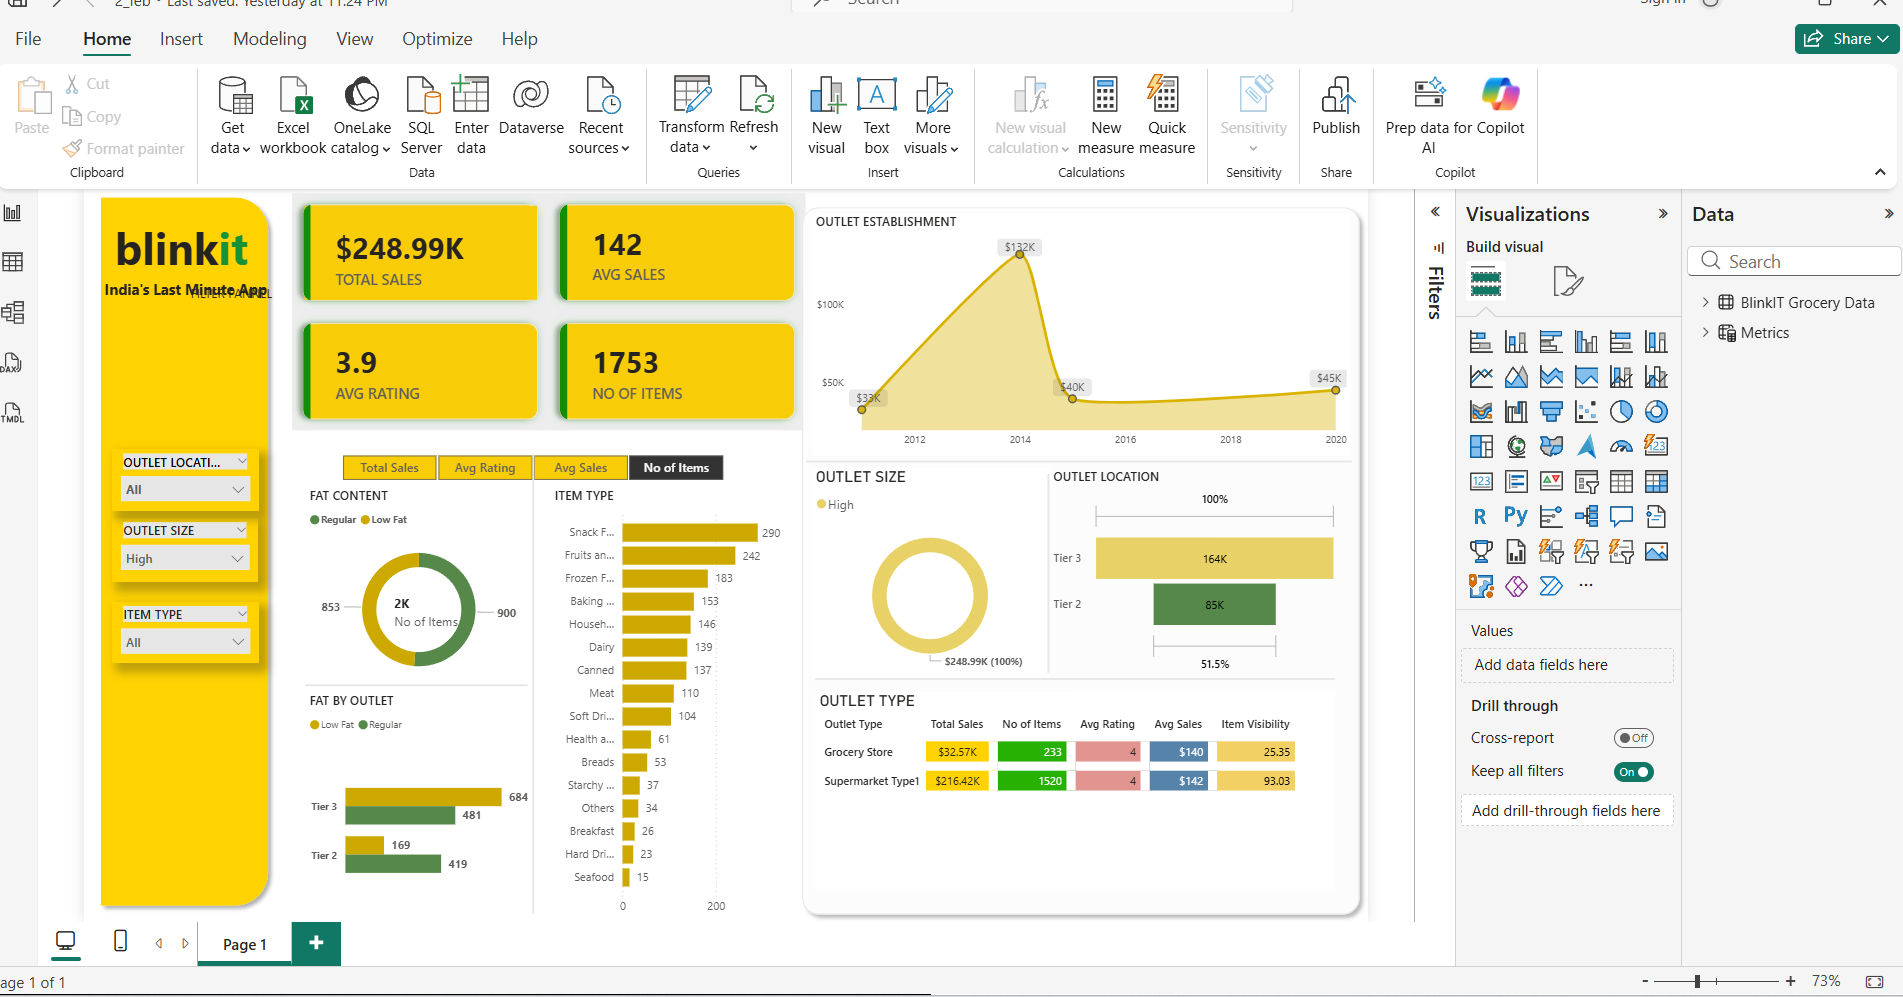

Layout of this report page (visuals, bound fields, positions):
{"tool":"powerbi","page":{"name":"Page 1","canvas":[1400,800],"ordinal":0},"visuals":[{"type":"shape","box":[9.5,0,200.4,790.7],"z":0},{"type":"textbox","box":[24,25.5,163.6,79.5],"z":1000},{"type":"textbox","box":[0,93.1,222.1,40.5],"z":2000},{"type":"cardVisual","fields":{"Data":["BlinkIT Grocery Data.Total Sales","BlinkIT Grocery Data.Avg Rating","BlinkIT Grocery Data.Avg Sales","BlinkIT Grocery Data.No of Items"]},"box":[222.2,0,571.2,269.9],"z":3000},{"type":"shape","box":[774.4,10.9,625.8,789.4],"z":4000},{"type":"donutChart","title":"FAT CONTENT","fields":{"Y":["BlinkIT Grocery Data.No of Items"],"Category":["BlinkIT Grocery Data.Item Fat Content"]},"box":[241.3,324.5,248.1,223.6],"z":5000},{"type":"slicer","fields":{"Values":["Metrics.Metrics"]},"box":[256.3,283.6,465,40],"z":6000},{"type":"cardVisual","fields":{"Data":["BlinkIT Grocery Data.No of Items"]},"box":[309.5,422.6,133.6,77.7],"z":7000},{"type":"clusteredBarChart","title":"FAT BY OUTLET","fields":{"Y":["BlinkIT Grocery Data.No of Items"],"Category":["BlinkIT Grocery Data.Outlet Location Type"],"Series":["BlinkIT Grocery Data.Item Fat Content"]},"box":[241.3,548.1,248.1,252.2],"z":8000},{"type":"shape","box":[241.3,534.4,242.7,13.6],"z":9000},{"type":"shape","box":[484,290.4,12.3,500.3],"z":10000},{"type":"barChart","title":"ITEM TYPE","fields":{"Y":["BlinkIT Grocery Data.No of Items"],"Category":["BlinkIT Grocery Data.Item Type"]},"box":[508.5,324.5,265.9,475.8],"z":11000},{"type":"lineChart","title":"OUTLET ESTABLISHMENT","fields":{"Y":["BlinkIT Grocery Data.Total Sales"],"Category":["BlinkIT Grocery Data.Outlet Establishment Year"]},"box":[793.5,25.9,589,264.5],"z":12000},{"type":"donutChart","title":"OUTLET SIZE","fields":{"Y":["BlinkIT Grocery Data.Total Sales"],"Category":["BlinkIT Grocery Data.Outlet Size"]},"box":[793.5,304,259,230.4],"z":13000},{"type":"shape","box":[788,290.4,594.4,13.6],"z":14000},{"type":"funnel","title":"OUTLET LOCATION","fields":{"Y":["Sum(BlinkIT Grocery Data.Sales)"],"Category":["BlinkIT Grocery Data.Outlet Location Type"]},"box":[1052.5,304,320.4,230.4],"z":15000},{"type":"shape","box":[1045.7,310.8,12.3,216.8],"z":16000},{"type":"pivotTable","title":"OUTLET  TYPE","fields":{"Values":["BlinkIT Grocery Data.Total Sales","BlinkIT Grocery Data.No of Items","BlinkIT Grocery Data.Avg Rating","BlinkIT Grocery Data.Avg Sales","Sum(BlinkIT Grocery Data.Item Visibility)"],"Rows":["BlinkIT Grocery Data.Outlet Type"]},"box":[797.6,548.1,567.1,215.4],"z":17000},{"type":"shape","box":[797.6,527.6,567.1,13.6],"z":18000},{"type":"slicer","fields":{"Values":["BlinkIT Grocery Data.Outlet Location Type"]},"box":[30,283.6,160.9,68.2],"z":19000},{"type":"slicer","fields":{"Values":["BlinkIT Grocery Data.Outlet Size"]},"box":[30,358.6,160,70],"z":20000},{"type":"slicer","fields":{"Values":["BlinkIT Grocery Data.Item Type"]},"box":[30,449.9,160.9,66.8],"z":21000},{"type":"textbox","box":[99.5,99.5,122.7,35.4],"z":22000}]}

Visuals, with their boxes on the page's 1400x800 design canvas (x1, y1, x2, y2). These are canvas units, not pixel positions in the 1903x997 screenshot, which may show the page scaled, cropped or inside an application window:
shape: bbox(10, 0, 210, 791)
textbox: bbox(24, 26, 188, 105)
textbox: bbox(0, 93, 222, 134)
cardVisual - BlinkIT Grocery Data.Total Sales x BlinkIT Grocery Data.Avg Rating: bbox(222, 0, 793, 270)
shape: bbox(774, 11, 1400, 800)
"FAT CONTENT" donutChart: bbox(241, 324, 489, 548)
slicer - Metrics.Metrics: bbox(256, 284, 721, 324)
cardVisual - BlinkIT Grocery Data.No of Items: bbox(310, 423, 443, 500)
"FAT BY OUTLET" clusteredBarChart: bbox(241, 548, 489, 800)
shape: bbox(241, 534, 484, 548)
shape: bbox(484, 290, 496, 791)
"ITEM TYPE" barChart: bbox(508, 324, 774, 800)
"OUTLET ESTABLISHMENT" lineChart: bbox(794, 26, 1382, 290)
"OUTLET SIZE" donutChart: bbox(794, 304, 1052, 534)
shape: bbox(788, 290, 1382, 304)
"OUTLET LOCATION" funnel: bbox(1052, 304, 1373, 534)
shape: bbox(1046, 311, 1058, 528)
"OUTLET  TYPE" pivotTable: bbox(798, 548, 1365, 764)
shape: bbox(798, 528, 1365, 541)
slicer - BlinkIT Grocery Data.Outlet Location Type: bbox(30, 284, 191, 352)
slicer - BlinkIT Grocery Data.Outlet Size: bbox(30, 359, 190, 429)
slicer - BlinkIT Grocery Data.Item Type: bbox(30, 450, 191, 517)
textbox: bbox(100, 100, 222, 135)
